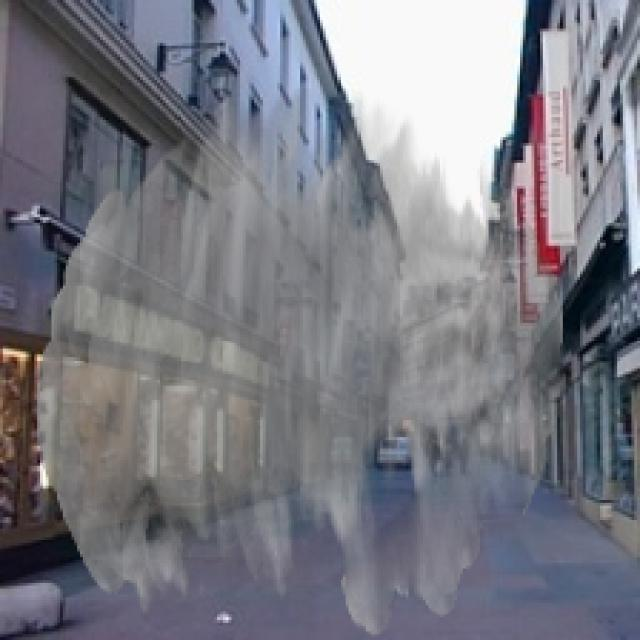smoke: (37, 89, 566, 637)
